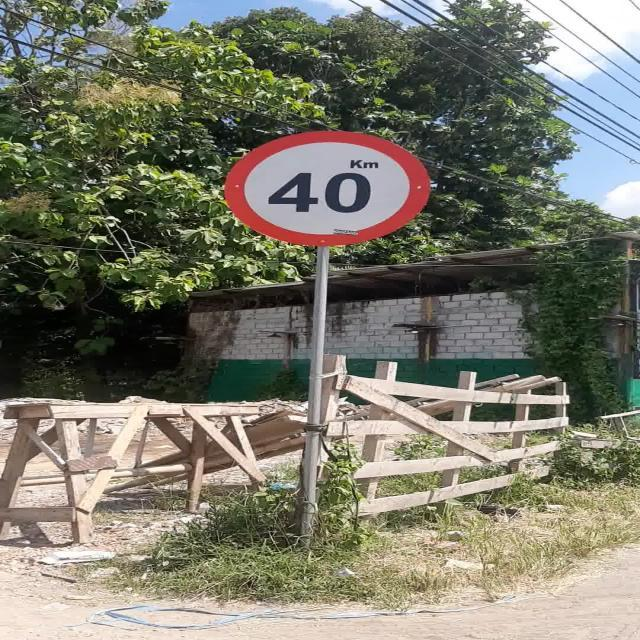Kecepatan Maks. 40 km: (224, 130, 432, 247)
